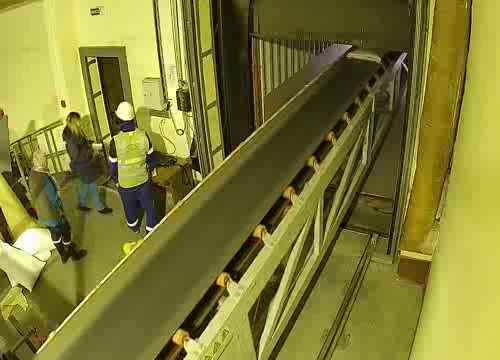bag: (345, 46, 386, 65)
